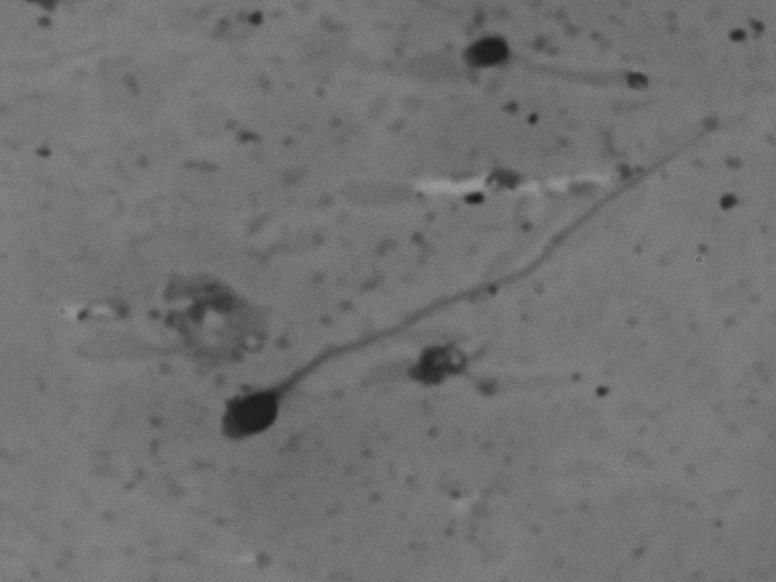Abnormal: (214, 100, 725, 463)
